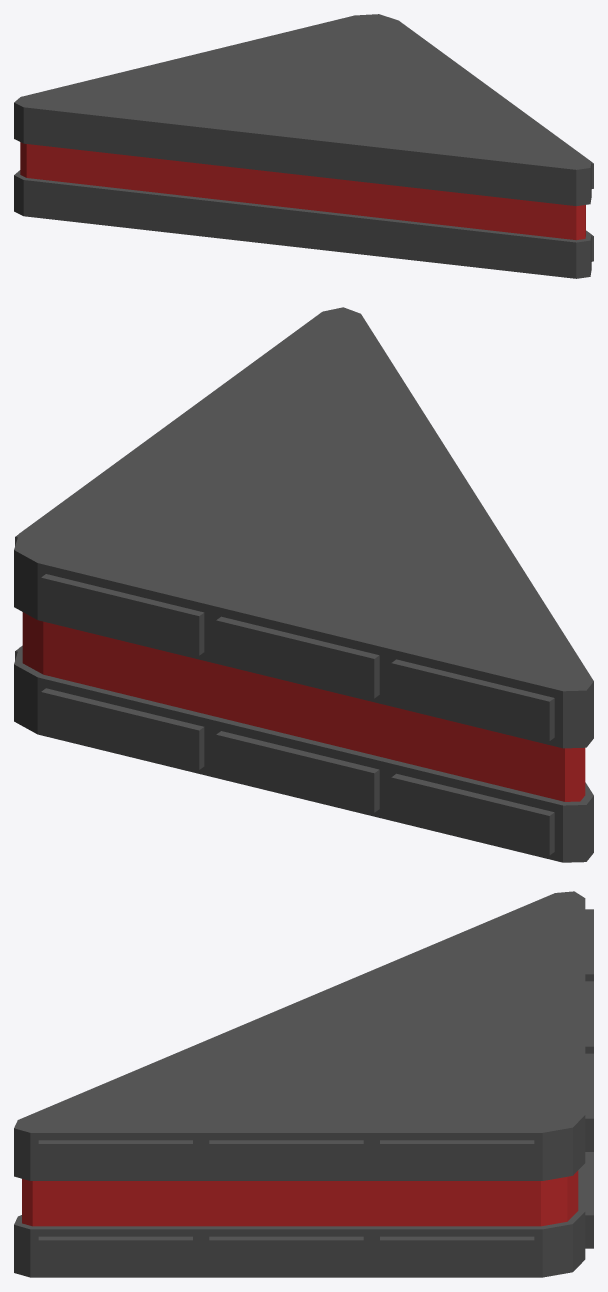
File: Refector.fbx
3 views of the same model, one above another, from view 1: azimuth 30°, elevation 25°; view 2: azimuth 150°, elevation 25°; view 3: azimuth 270°, elevation 25° (orthographic). The views are drawn at different scales.
Visible parts, largest first — view 1: Cube_3; view 2: Cube_3; view 3: Cube_3.
Part boxes in pixels (box(x1,y1,x2,y2)): Cube_3: box(14, 14, 593, 278); Cube_3: box(14, 307, 593, 862); Cube_3: box(14, 891, 593, 1277).
Size of the model in its own units: 64.95 by 17.88 by 64.95.
